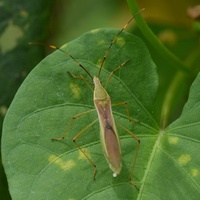insect: (46, 8, 143, 180)
